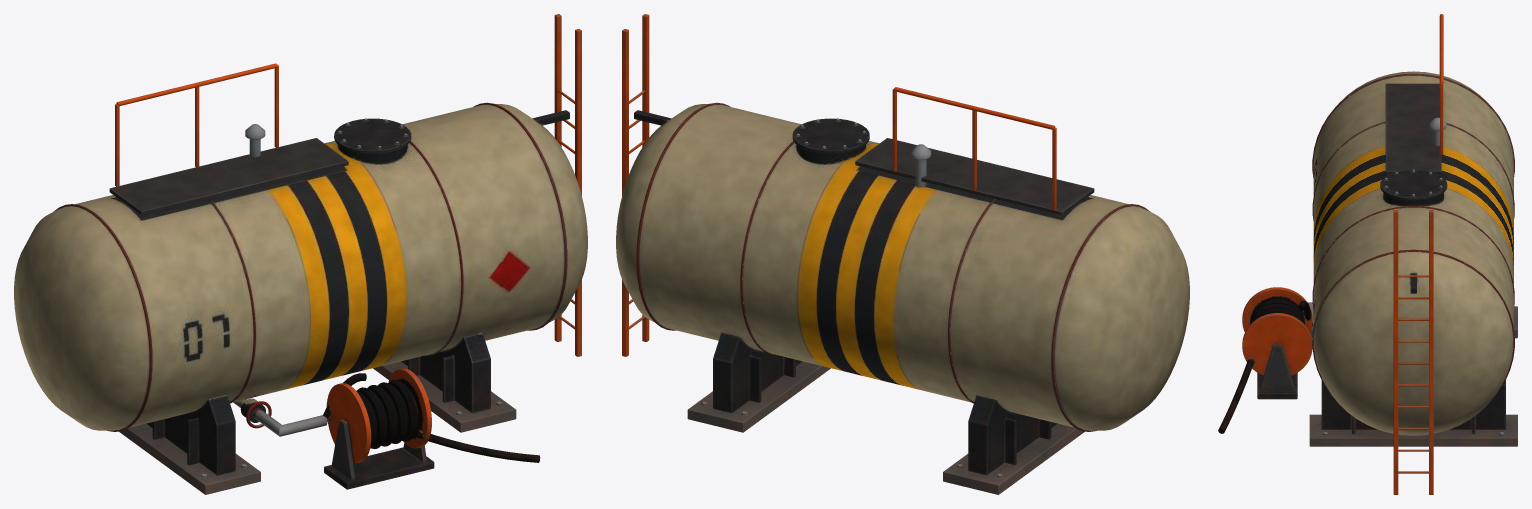
Rendered from fuel_tank.glb.
3 views of the same model, side by side, from view 1: azimuth 30°, elevation 25°; view 2: azimuth 150°, elevation 25°; view 3: azimuth 270°, elevation 25° (orthographic). The views are drawn at different scales.
Visible parts, largest first — view 1: fuel_tank; view 2: fuel_tank; view 3: fuel_tank.
Boxes of the visible parts, x1=… form: fuel_tank: x1=14, y1=14, x2=587, y2=494; fuel_tank: x1=616, y1=14, x2=1189, y2=494; fuel_tank: x1=1218, y1=14, x2=1517, y2=494.
Size of the model in its own units: 6.61 by 4.07 by 3.74.
Materials: 2 (2 with a texture image).
